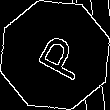P_NW: (24, 27, 86, 83)
